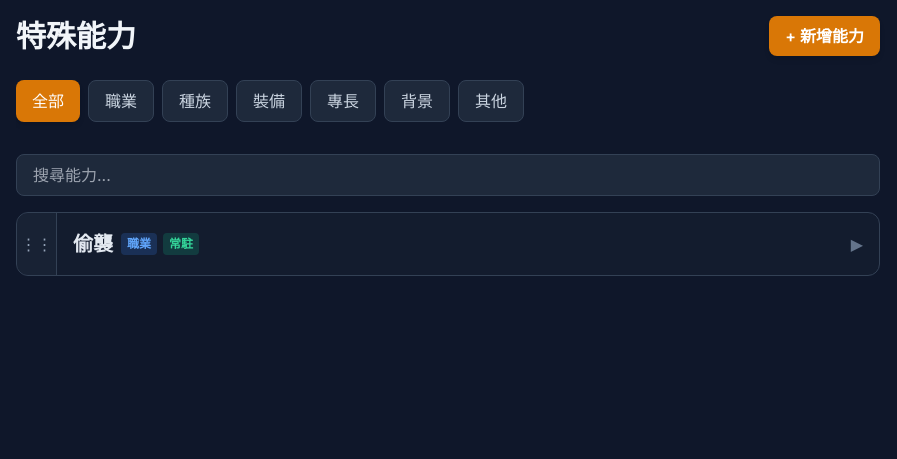
AbilitiesPage - 來源篩選 › 篩選後無結果時應顯示「尚無「{來源}」來源的能力」
Expected: the heading "偷襲" is shown, [73, 229, 113, 259]
Click the button "種族" at (195, 101), box [162, 80, 228, 122]
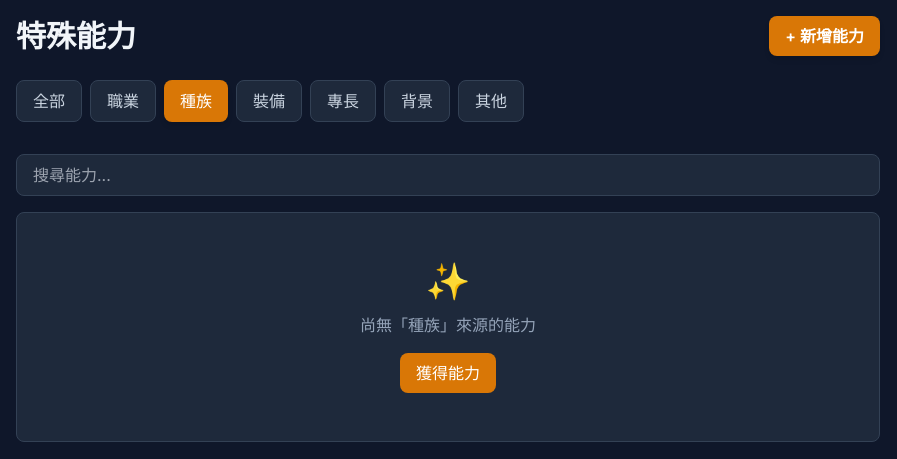
Now the text "尚無「種族」來源的能力" is shown, box [360, 315, 536, 335]
Now the button "偷襲" is gone
